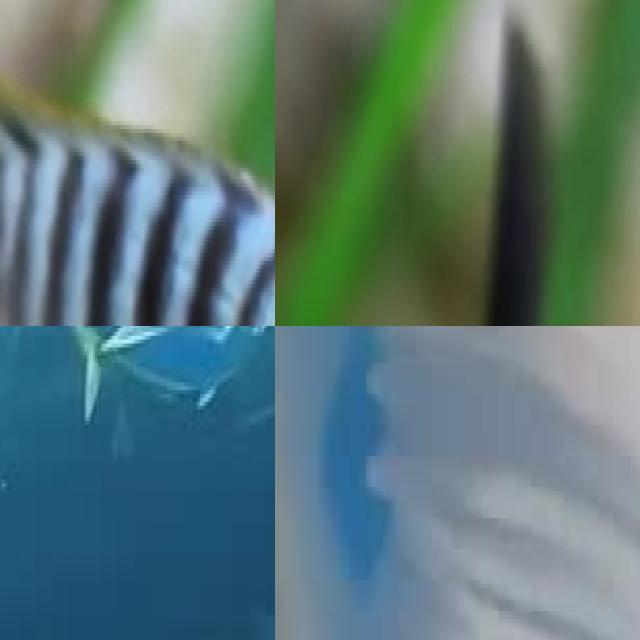fish: (327, 28, 640, 326), (0, 0, 275, 326), (55, 326, 275, 452)
